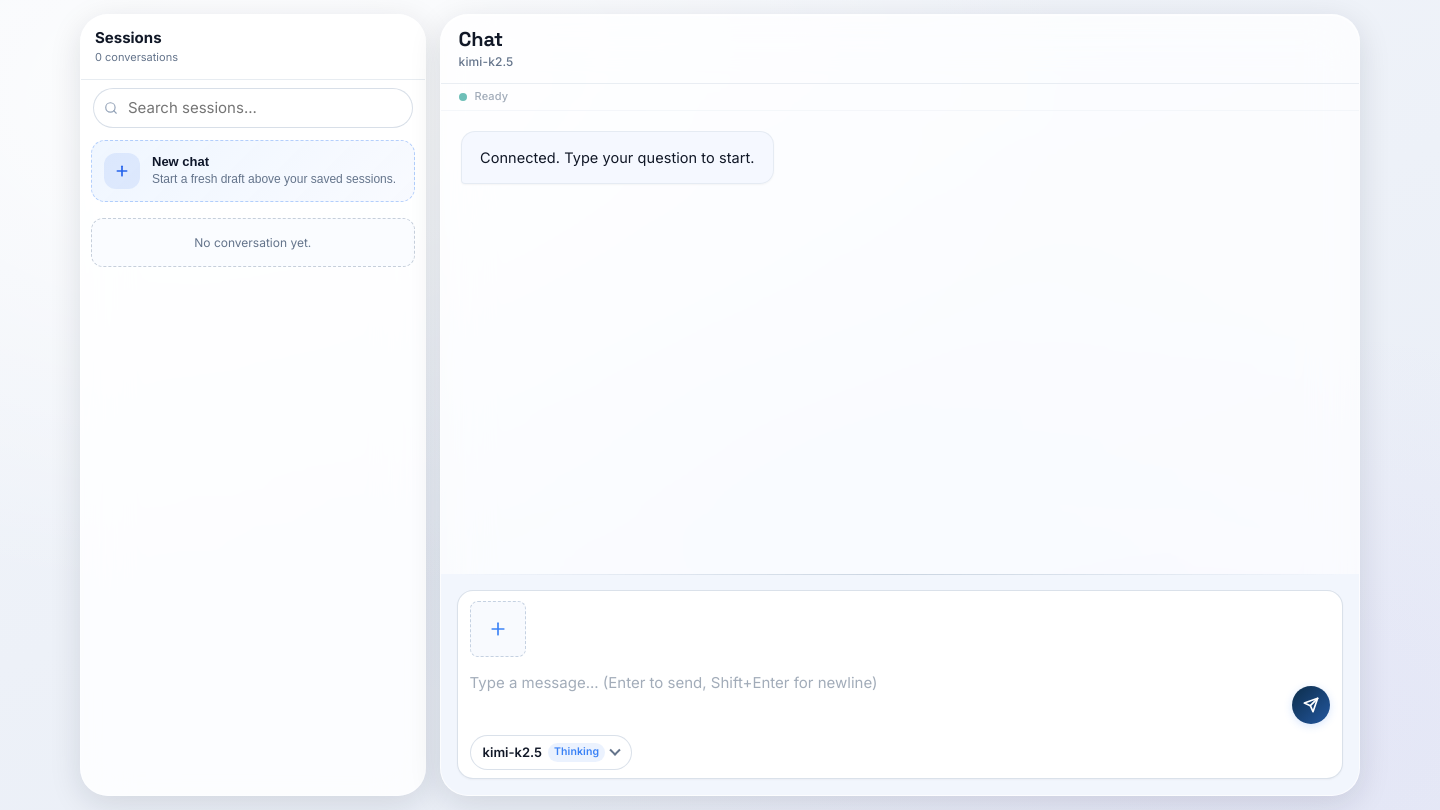
Test: App behavior (session v2) › splits reasoning into paragraphs across agent steps during streaming
Type "agent step formatting" into the text box with placeholder "Type a message... (Enter to send, Shift+Enter for newline)" at {"x": 877, "y": 695}, box [470,665,1284,725]
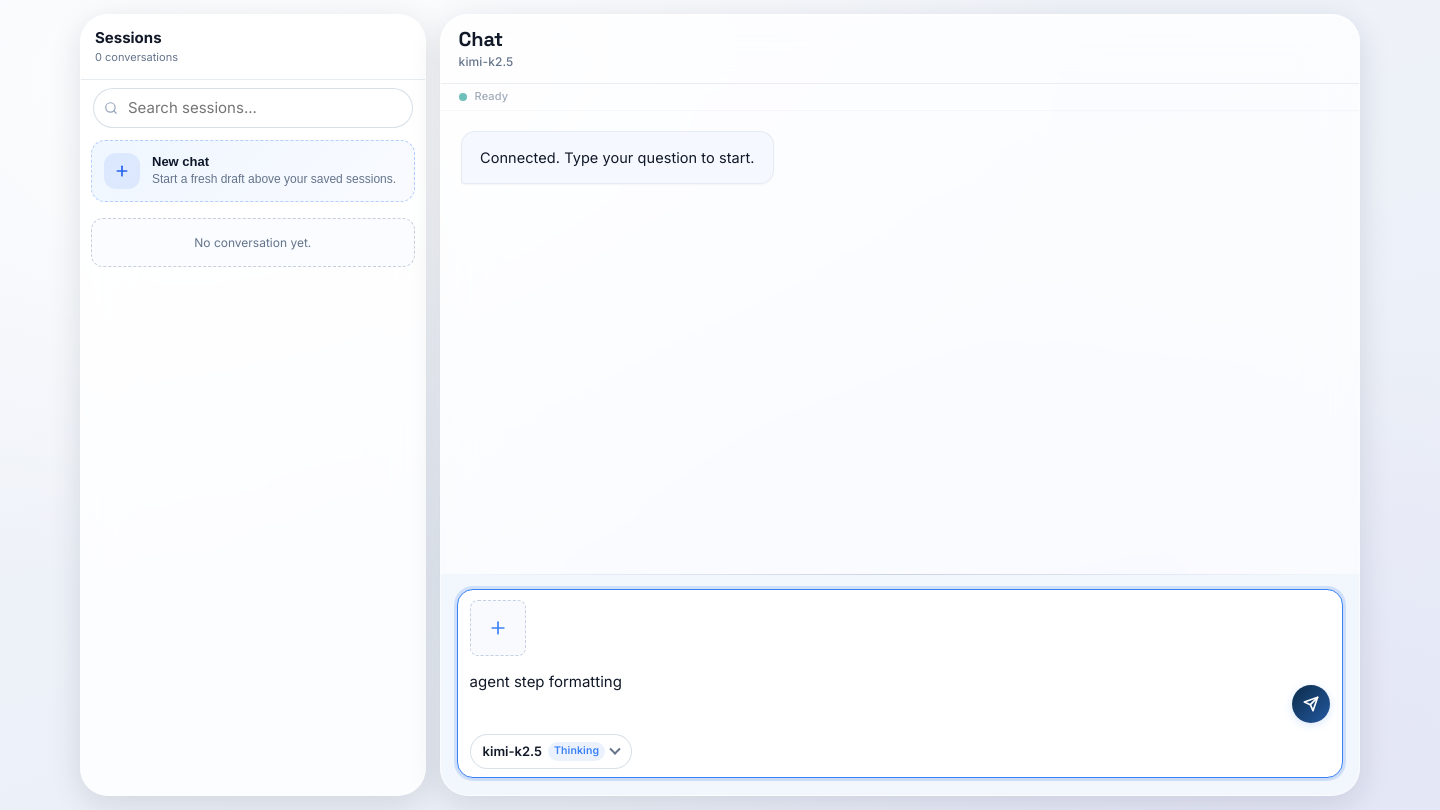
Submit the form with class "composer", box [441,574,1359,795]
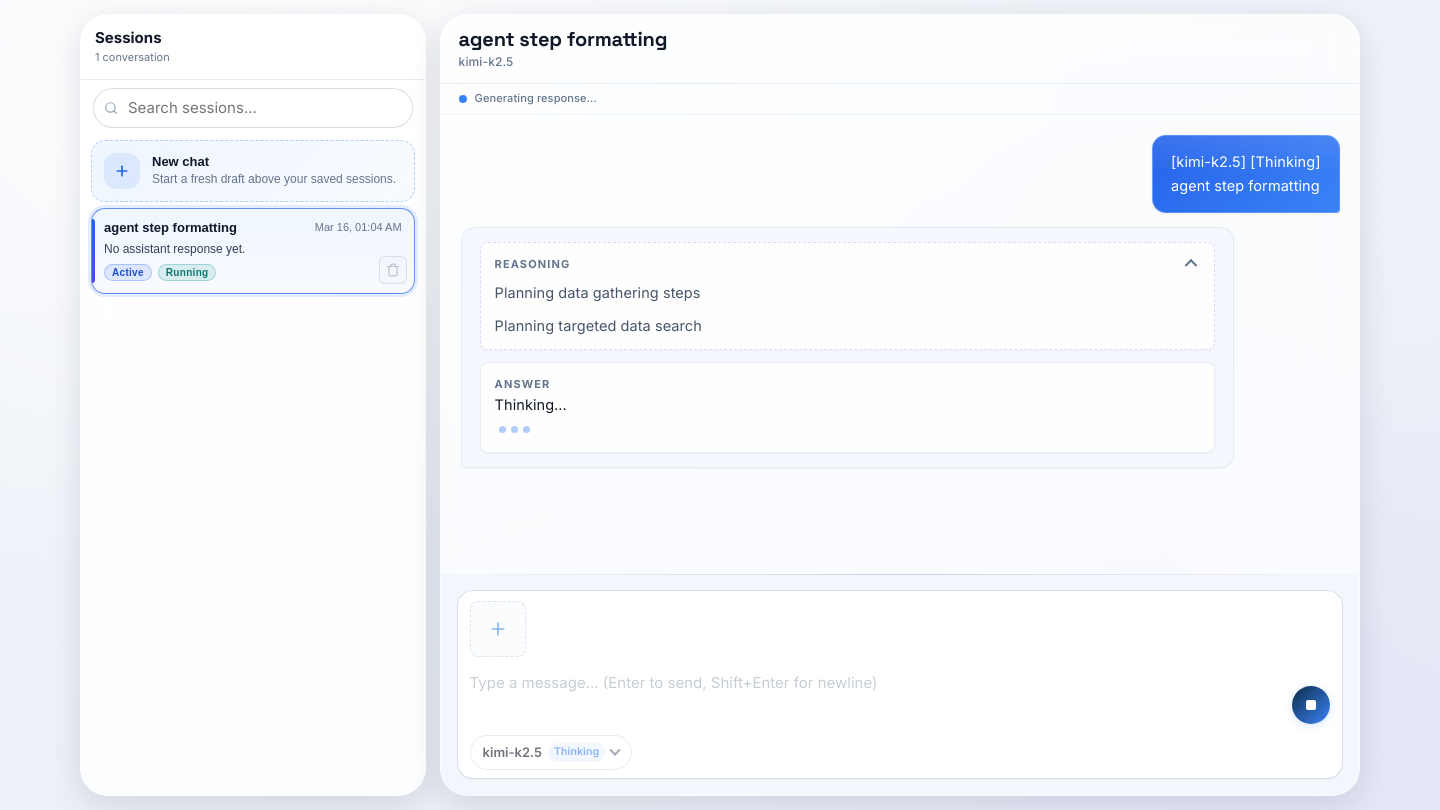
Click the button named "Stop" at {"x": 1311, "y": 705}, box [1292,686,1330,724]
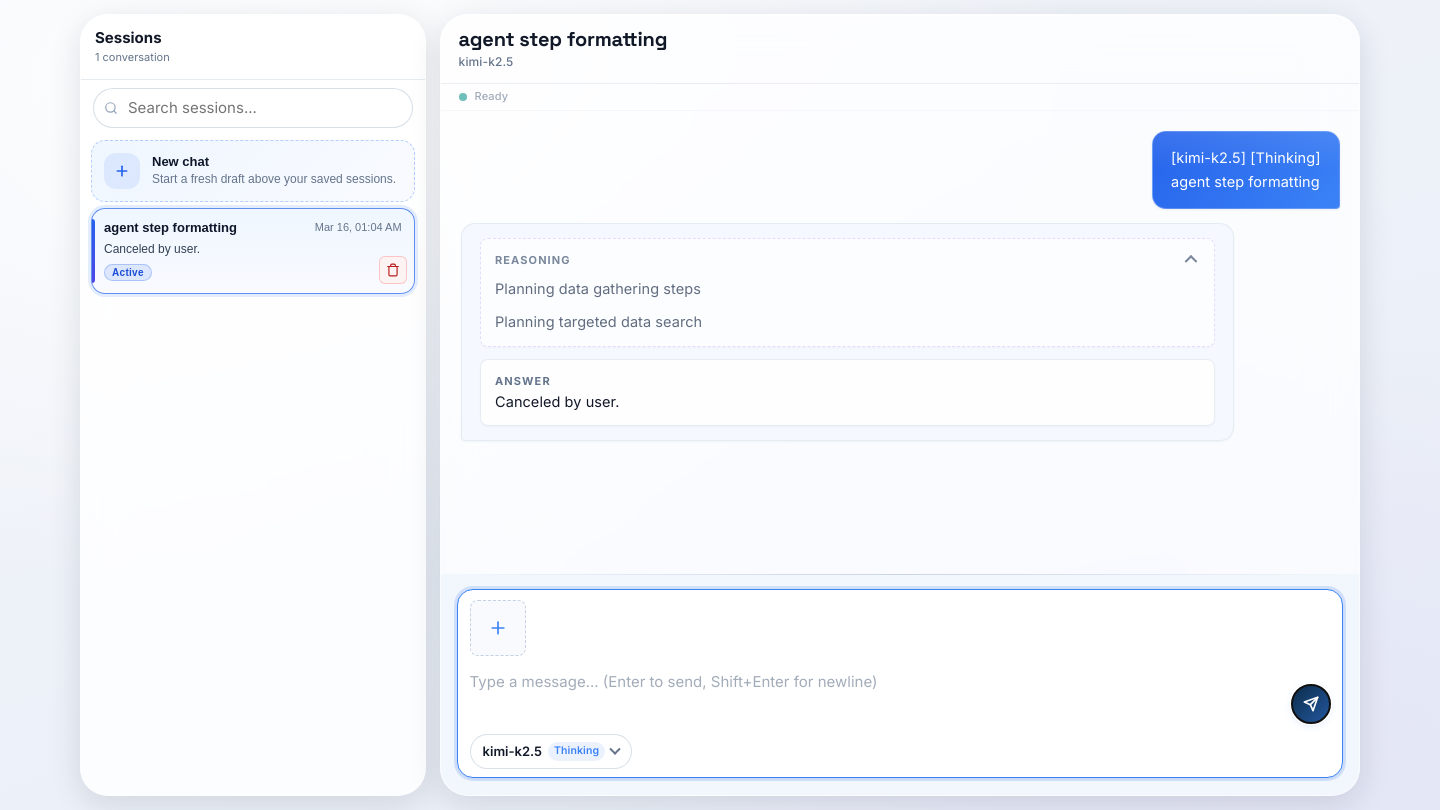
expect the text "Ready" is shown: met, box [475,88,508,106]
